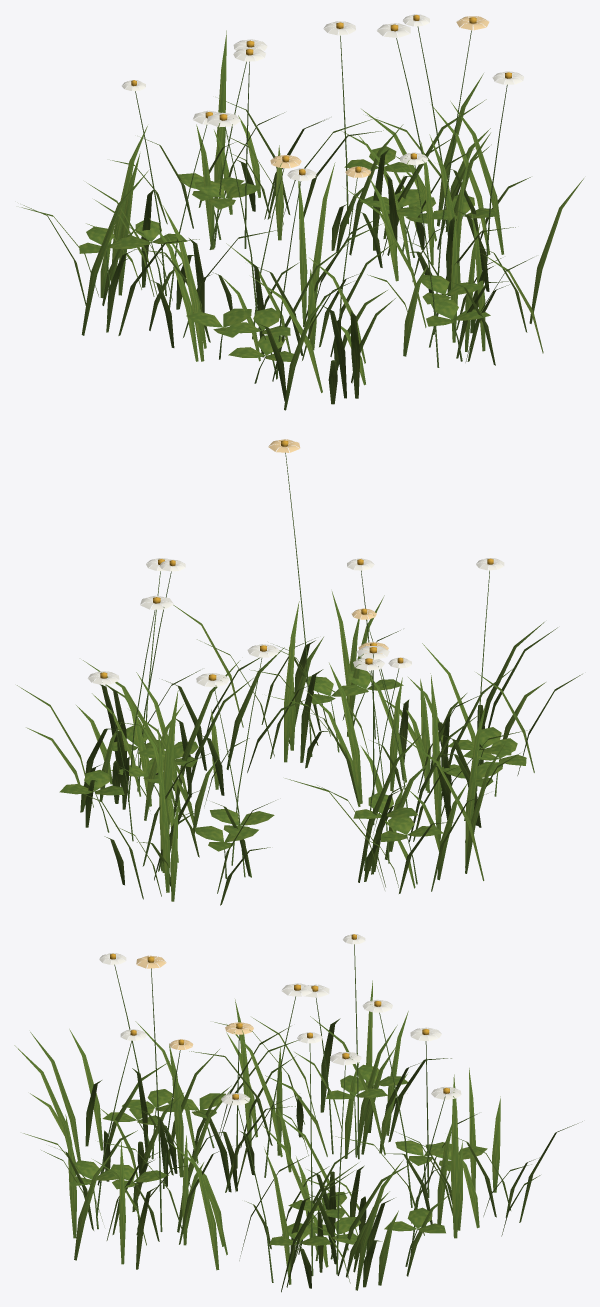
The model's file is b-meadowb.glb.
3 renders of one model, top to bottom at view 1: azimuth 30°, elevation 25°; view 2: azimuth 150°, elevation 25°; view 3: azimuth 270°, elevation 25°, orthographic. The views are drawn at different scales.
Visible parts, largest first — view 1: PatchFoliage, PatchStems, PatchFlowers; view 2: PatchFoliage, PatchFlowers, PatchStems; view 3: PatchFoliage, PatchStems, PatchFlowers.
Boxes of the visible parts, <box> form: PatchFoliage: <box>21,30,583,410</box>; PatchStems: <box>106,26,507,383</box>; PatchFlowers: <box>122,14,523,180</box>; PatchFoliage: <box>17,591,582,905</box>; PatchFlowers: <box>88,439,504,686</box>; PatchStems: <box>95,452,499,884</box>; PatchFoliage: <box>14,980,582,1292</box>; PatchStems: <box>93,944,450,1282</box>; PatchFlowers: <box>99,934,461,1105</box>.
Size of the model in its own units: 0.7763 by 0.48 by 0.8575.
Materials: 3 (1 with a texture image).
